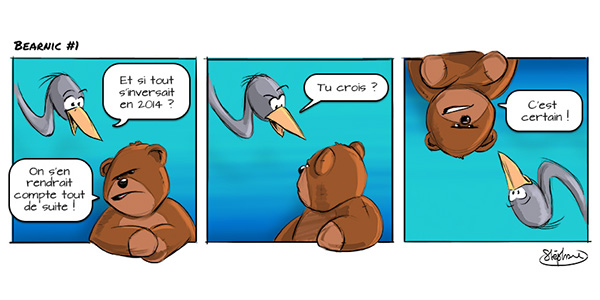bird: (502, 142, 600, 267), (16, 46, 110, 163), (209, 39, 299, 157)
